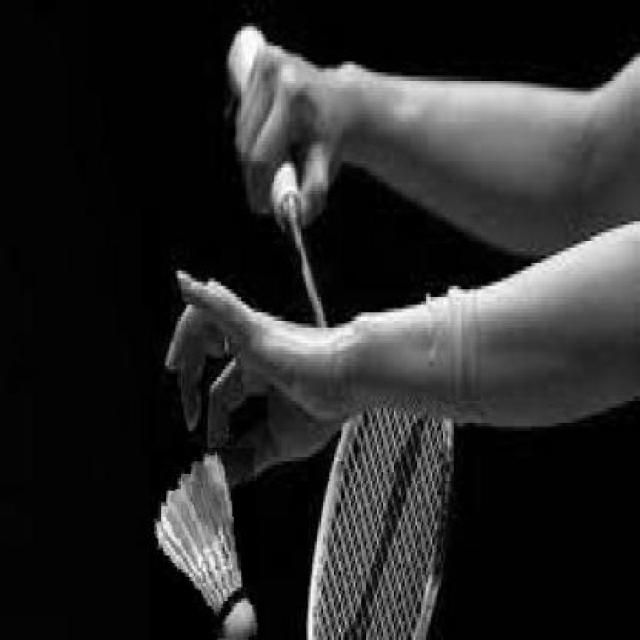Shuttlecock: (151, 447, 254, 640)
